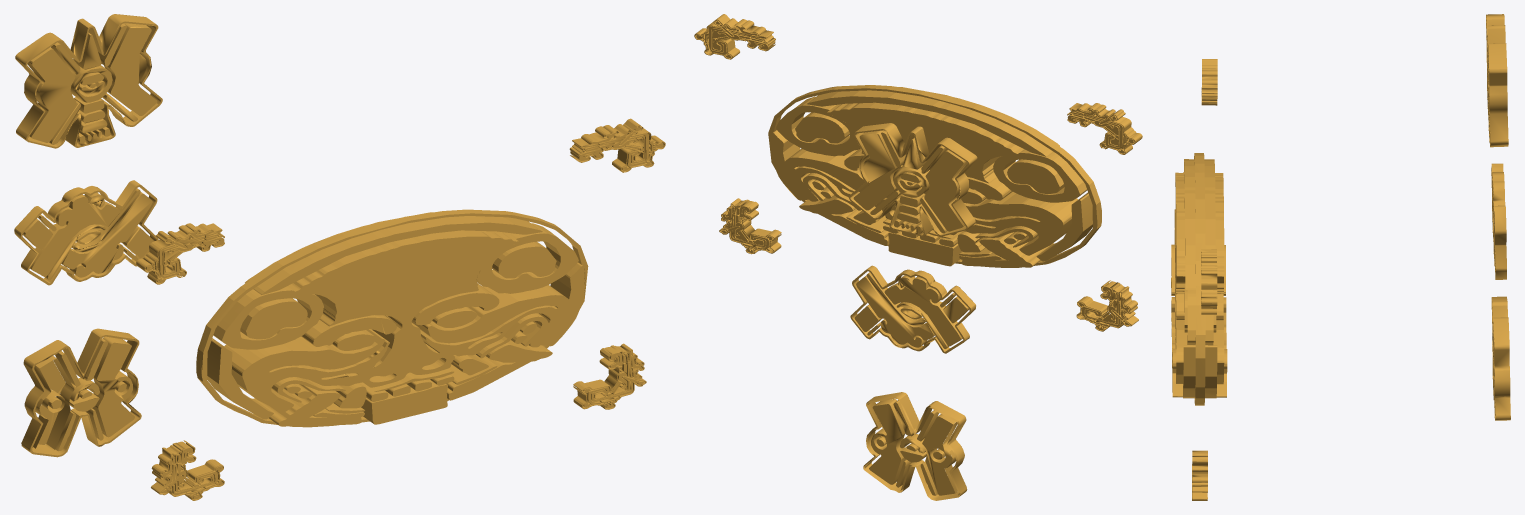
Rendered from templegoldpeice.1.2.glb.
3 renders of one model, left to right at view 1: azimuth 30°, elevation 25°; view 2: azimuth 150°, elevation 25°; view 3: azimuth 270°, elevation 25°, orthographic. The views are drawn at different scales.
Visible parts, largest first — view 1: Selection.816; view 2: Selection.816; view 3: Selection.816.
Boxes of the visible parts, x1,y1,x2,y2 form: Selection.816: [14, 14, 665, 500]; Selection.816: [694, 14, 1142, 500]; Selection.816: [1171, 14, 1510, 500].
Size of the model in its own units: 1.22 by 0.9555 by 0.7624.
